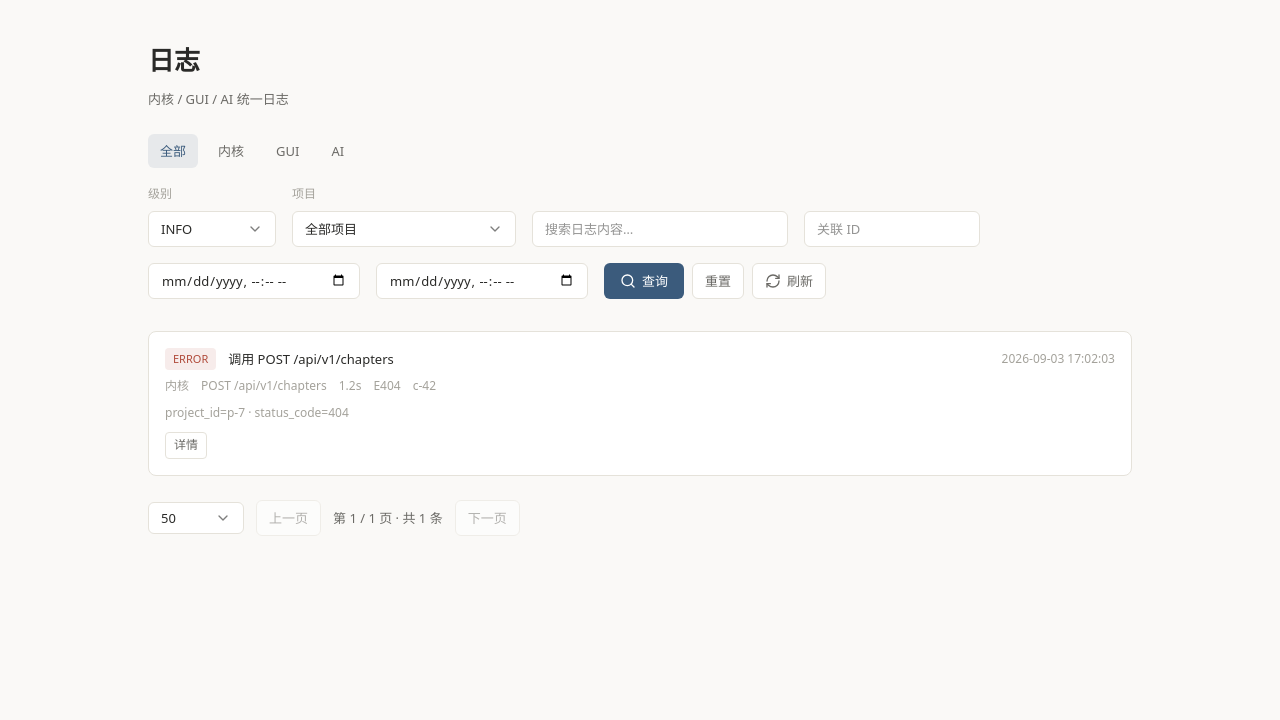
日志页 — #932 行点击详情（S2） › 【R】守护 #930：log-stack-toggle 只展开 log-stack 不触发 log-detail；详情内 stack 用 log-detail-stack
Note: 行内 stack 摘要折叠 → 展开，但不得触发 log-detail（stopPropagation 守护）
Click the button with test id "log-stack-toggle" at (186, 445), box [165,432,207,459]
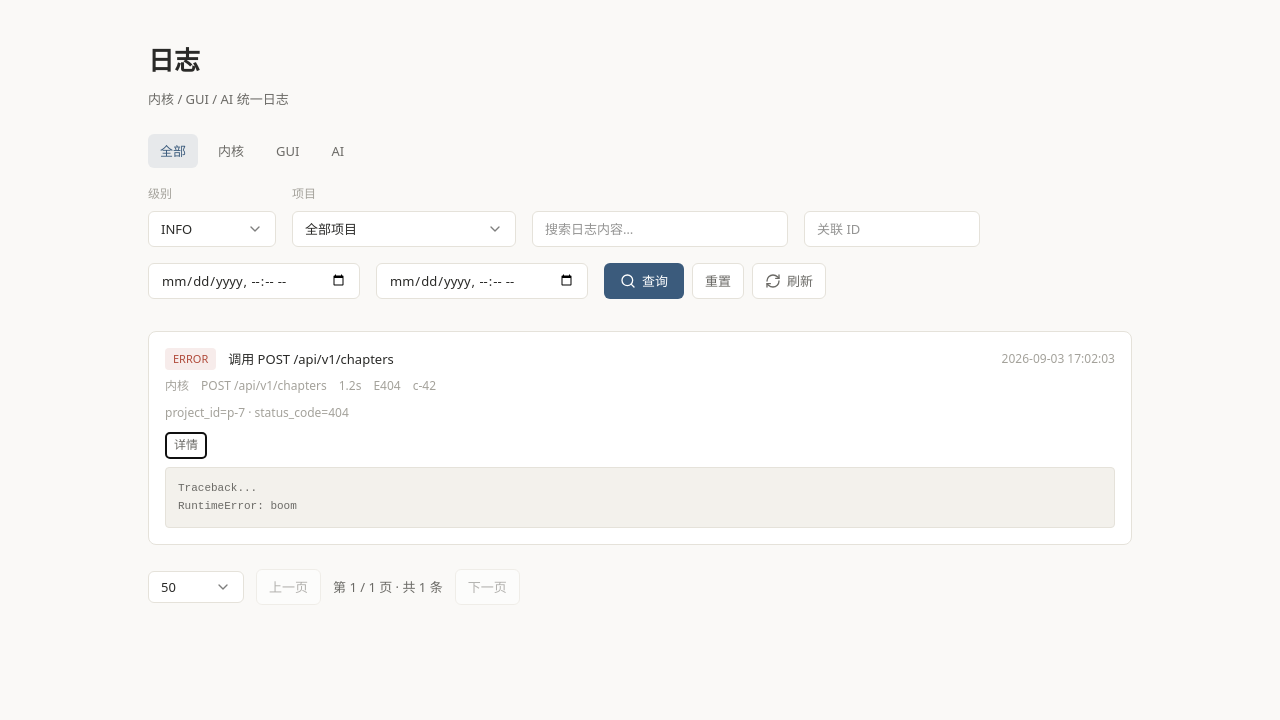
Now the text "Traceback... RuntimeError: boom" is shown, box [165,467,1115,528]
Note: 点行展开详情 → 其中 stack 区块 id 是 log-detail-stack（与 log-stack 互不冲突）
Click the list item with test id "log-row" at (640, 438), box [148,331,1132,545]
(page scrolled)
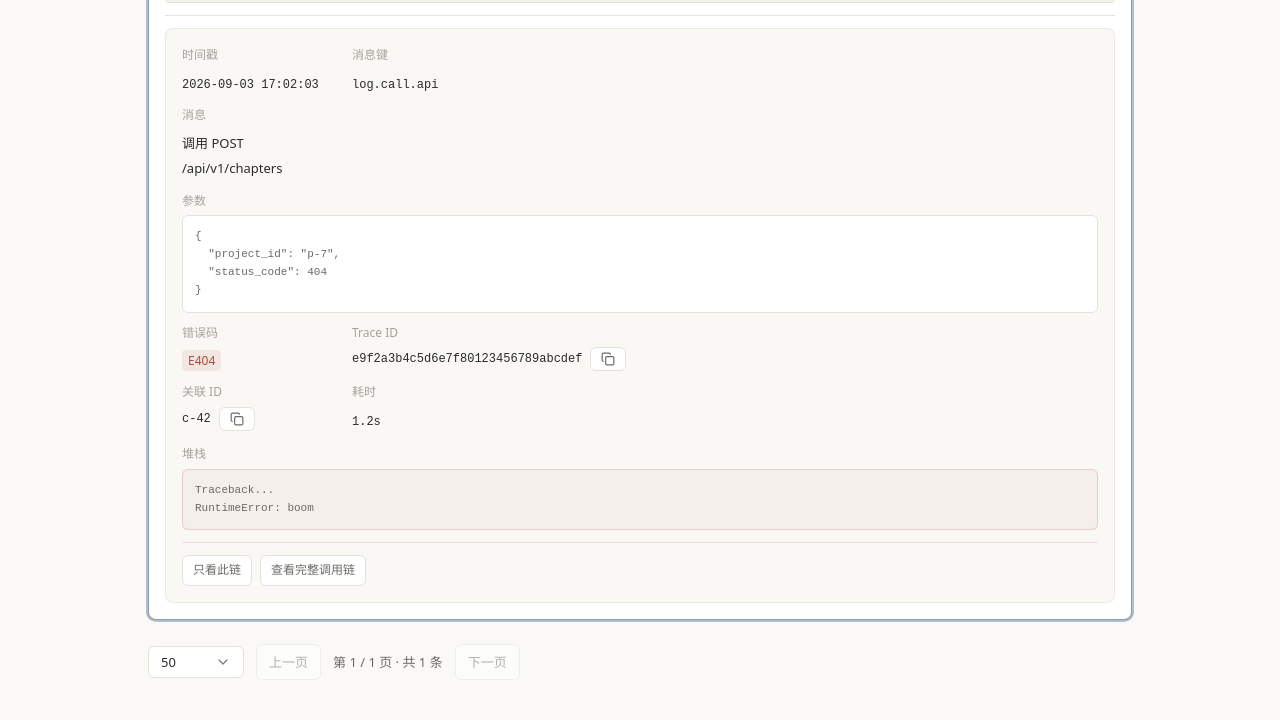
Now the text with test id "log-detail-stack" is shown, box [182,469,1098,530]
